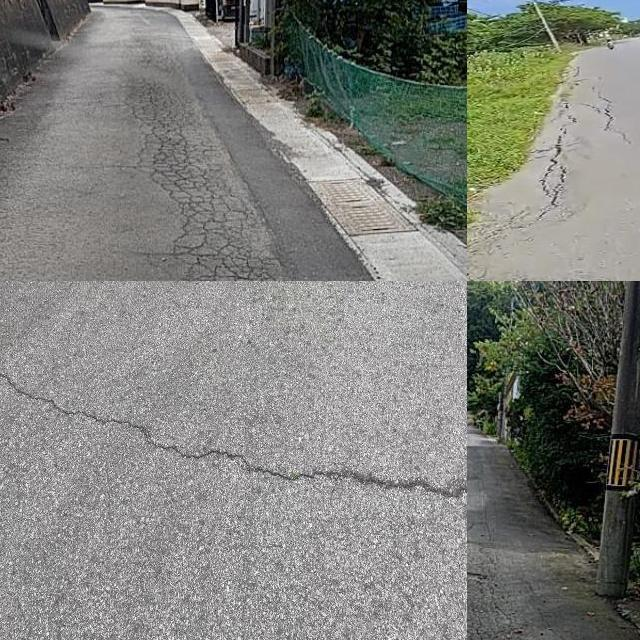Melintang: (0, 366, 467, 508)
Pinggir: (467, 51, 628, 281)
Retak Buaya: (130, 85, 292, 281)
